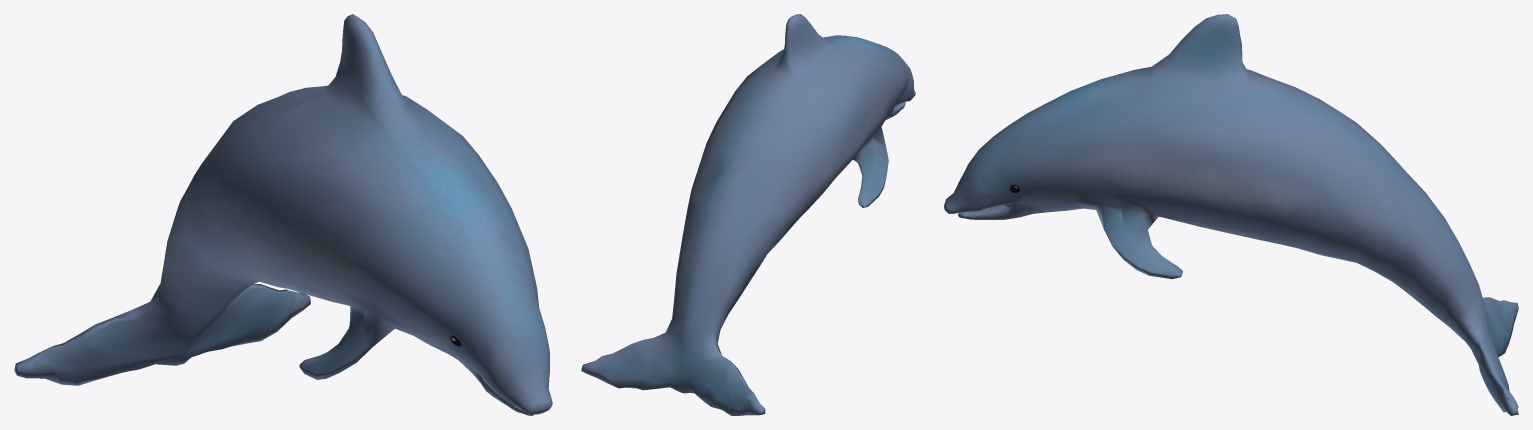
File: delfin.gltf
The picture shows the model from 3 angles, left to right: view 1: azimuth 30°, elevation 25°; view 2: azimuth 150°, elevation 25°; view 3: azimuth 270°, elevation 25°; orthographic projection. The views are drawn at different scales.
Bounding box in the file's own units: 112 × 176 × 252.
Materials: 1 (1 with a texture image).
